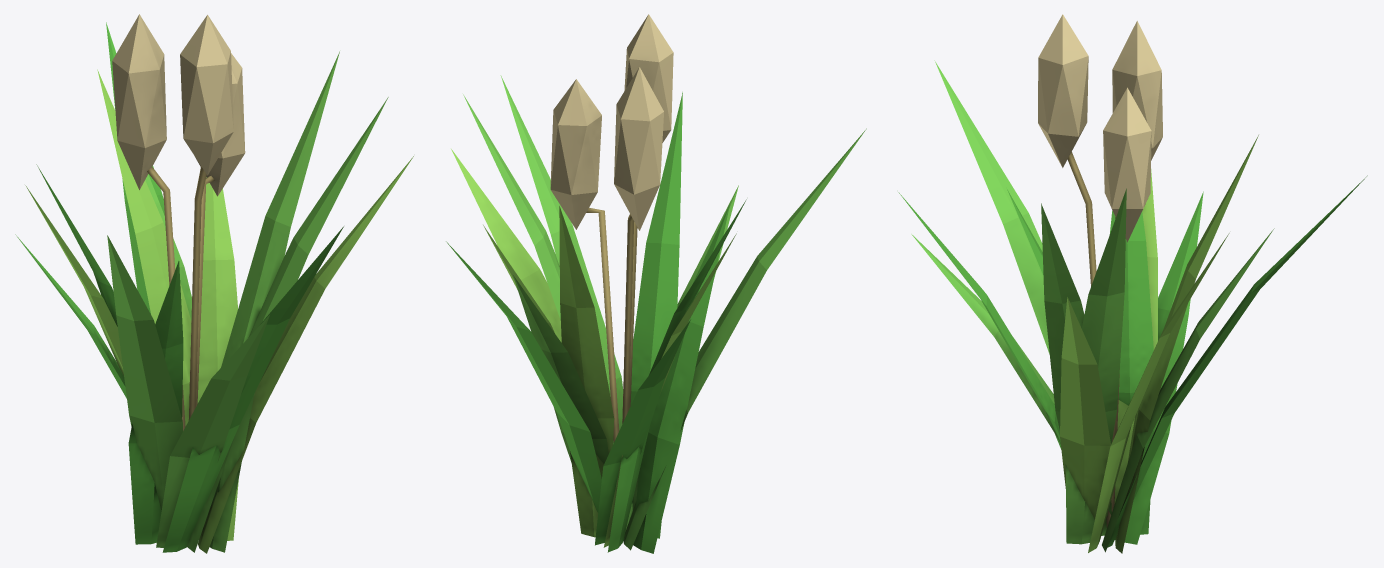
Rendered from tall_grass.glb.
3 renders of one model, left to right at view 1: azimuth 30°, elevation 25°; view 2: azimuth 150°, elevation 25°; view 3: azimuth 270°, elevation 25°, orthographic. The views are drawn at different scales.
Visible parts, largest first — view 1: tall_grass; view 2: tall_grass; view 3: tall_grass.
Part boxes in pixels (box(x1,y1,x2,y2)): tall_grass: box(15, 14, 413, 553); tall_grass: box(446, 14, 866, 553); tall_grass: box(898, 14, 1367, 553).
Size of the model in its own units: 0.5781 by 0.7984 by 0.6554.
Materials: 5 (5 with a texture image).
